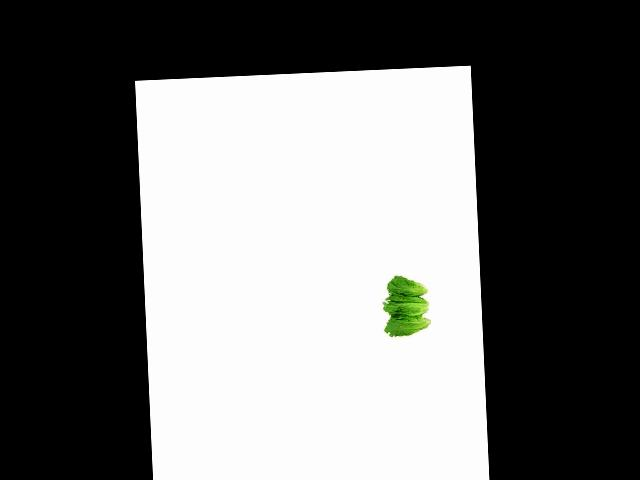lettuce: (385, 273, 438, 300)
